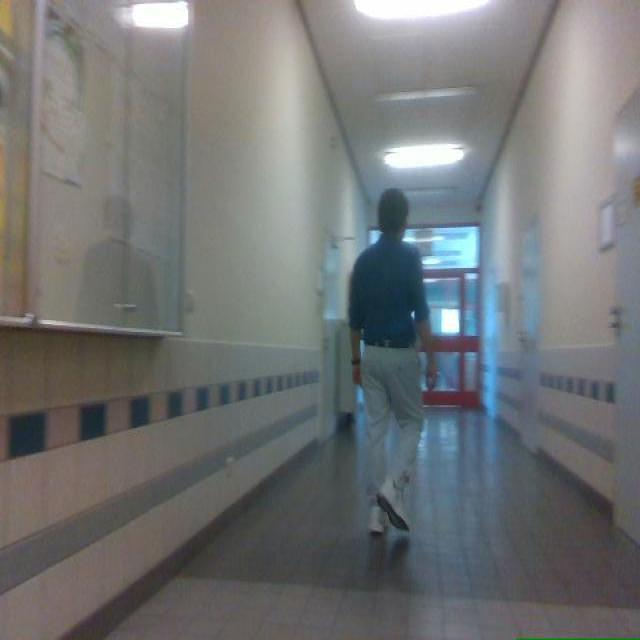humans: (350, 188, 436, 533)
